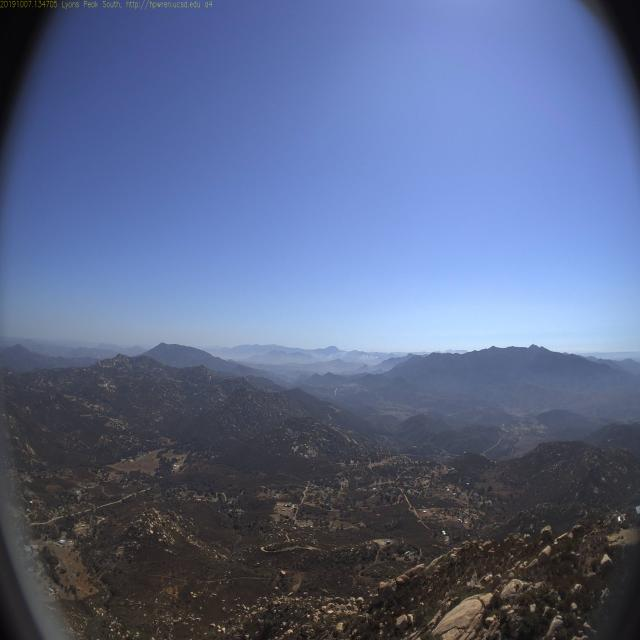smoke: (322, 345, 383, 364)
